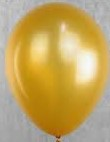Balloon: (6, 3, 110, 135)
